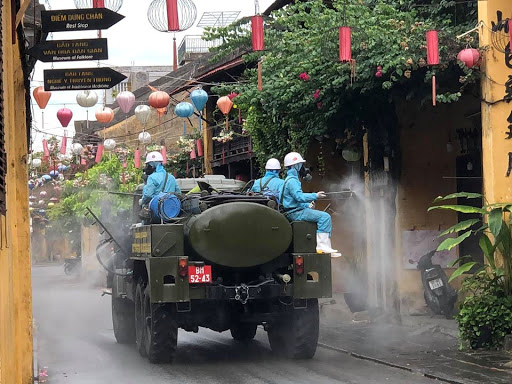plate: (187, 262, 212, 284), (427, 276, 445, 290)
